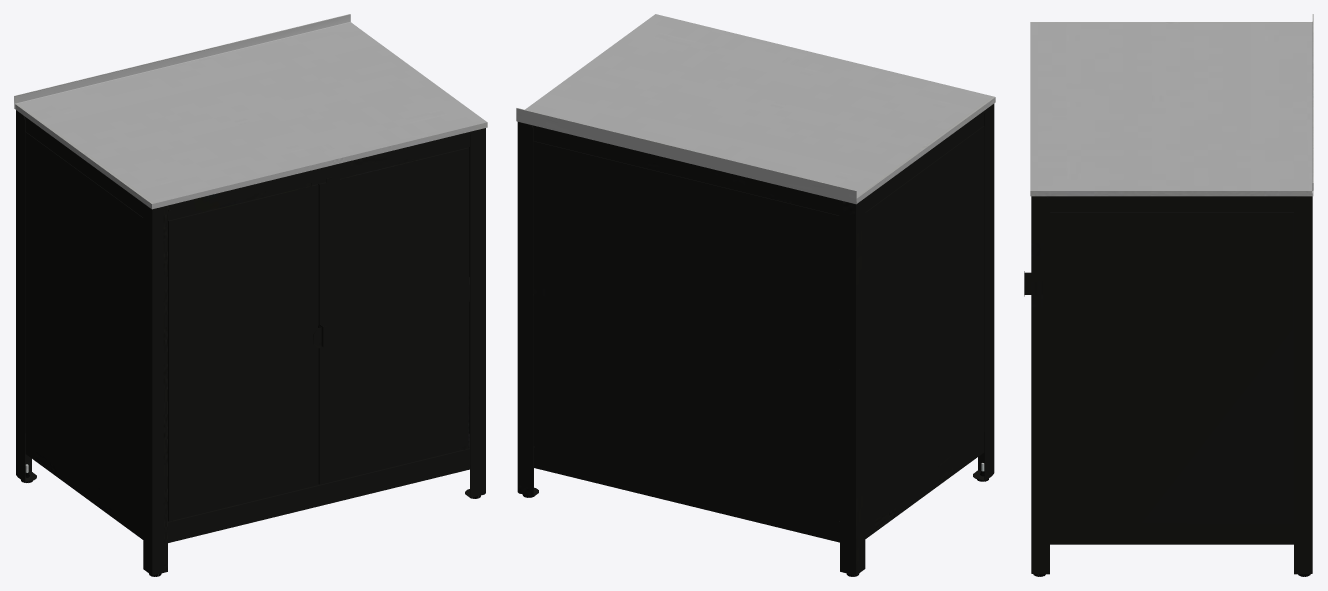
The model's file is grillskar_wyspa_kuchenna_rega_29390107.glb.
3 renders of one model, left to right at view 1: azimuth 30°, elevation 25°; view 2: azimuth 150°, elevation 25°; view 3: azimuth 270°, elevation 25°, orthographic. The views are drawn at different scales.
Visible parts, largest first — view 1: grillskar_wyspa_kuchenna_rega_29390107; view 2: grillskar_wyspa_kuchenna_rega_29390107; view 3: grillskar_wyspa_kuchenna_rega_29390107.
Boxes of the visible parts, x1,y1,x2,y2 form: grillskar_wyspa_kuchenna_rega_29390107: [14, 14, 487, 576]; grillskar_wyspa_kuchenna_rega_29390107: [516, 14, 995, 576]; grillskar_wyspa_kuchenna_rega_29390107: [1024, 14, 1313, 576].
Size of the model in its own units: 0.86 by 0.9404 by 0.6229.
Materials: 1 (1 with a texture image).
